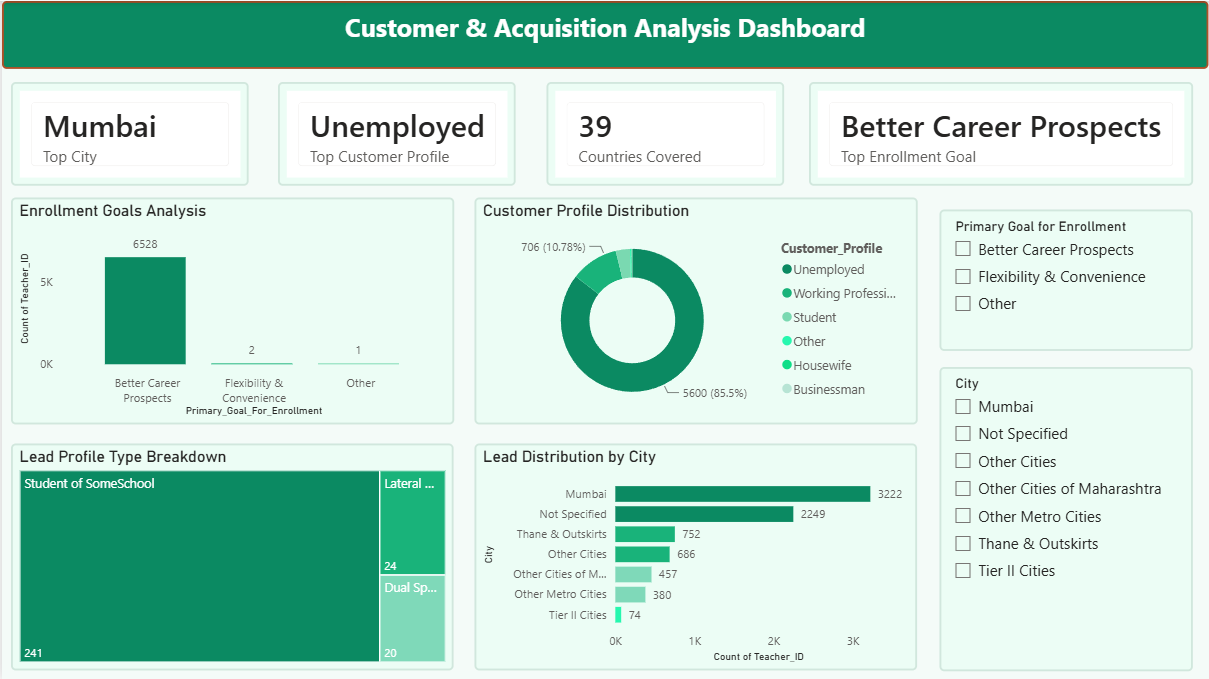

The dashboard page shown, as its layout file describes it:
{"tool":"powerbi","page":{"name":"Customer & Acquisition Analysis","canvas":[1280,720],"ordinal":3},"visuals":[{"type":"donutChart","title":"Customer Profile Distribution","fields":{"Category":["clean_b2b_edtech_leads.Customer_Profile"],"Y":["CountNonNull(clean_b2b_edtech_leads.Teacher_ID)"]},"box":[501.1,208.8,470,240.5],"z":0},{"type":"clusteredColumnChart","title":"Enrollment Goals Analysis","fields":{"Category":["clean_b2b_edtech_leads.Primary_Goal_For_Enrollment"],"Y":["CountNonNull(clean_b2b_edtech_leads.Teacher_ID)"]},"box":[10,208.8,470,240.5],"z":1000},{"type":"clusteredBarChart","title":"Lead Distribution by City","fields":{"Category":["clean_b2b_edtech_leads.City"],"Y":["CountNonNull(clean_b2b_edtech_leads.Teacher_ID)"]},"box":[501.1,469.4,469.4,240.5],"z":2000},{"type":"slicer","fields":{"Values":["clean_b2b_edtech_leads.City"]},"box":[993.8,387.5,268.9,322.4],"z":3000},{"type":"slicer","fields":{"Values":["clean_b2b_edtech_leads.Primary_Goal_For_Enrollment"]},"box":[993.8,220.5,268.9,150.3],"z":4000},{"type":"treemap","title":"Lead Profile Type Breakdown","fields":{"Group":["clean_b2b_edtech_leads.Lead_Profile_Type"],"Values":["CountNonNull(clean_b2b_edtech_leads.Teacher_ID)"]},"box":[10,469.4,469.4,240.5],"z":5000},{"type":"cardVisual","fields":{"Data":["clean_b2b_edtech_leads.Top City"]},"box":[10,85.2,252.2,110.2],"z":6000},{"type":"cardVisual","fields":{"Data":["clean_b2b_edtech_leads.Top Customer Profile"]},"box":[292.3,85.2,252.2,110.2],"z":7000},{"type":"cardVisual","fields":{"Data":["clean_b2b_edtech_leads.Top Enrollment Goal"]},"box":[855.2,85.2,407.6,110.2],"z":8000},{"type":"cardVisual","fields":{"Data":["clean_b2b_edtech_leads.Countries Covered"]},"box":[577.9,85.2,252.2,110.2],"z":9000},{"type":"textbox","box":[0,0,1279.5,71.8],"z":9001}]}

Visuals, with their boxes in screenshot pixels (x1, y1, x2, y2), scaled from the page's 1280x720 canvas onto the 1209x679 screenshot:
"Customer Profile Distribution" donutChart: (473, 197, 917, 424)
"Enrollment Goals Analysis" clusteredColumnChart: (9, 197, 453, 424)
"Lead Distribution by City" clusteredBarChart: (473, 443, 917, 669)
slicer - clean_b2b_edtech_leads.City: (939, 365, 1193, 669)
slicer - clean_b2b_edtech_leads.Primary_Goal_For_Enrollment: (939, 208, 1193, 350)
"Lead Profile Type Breakdown" treemap: (9, 443, 453, 669)
cardVisual - clean_b2b_edtech_leads.Top City: (9, 80, 248, 184)
cardVisual - clean_b2b_edtech_leads.Top Customer Profile: (276, 80, 514, 184)
cardVisual - clean_b2b_edtech_leads.Top Enrollment Goal: (808, 80, 1193, 184)
cardVisual - clean_b2b_edtech_leads.Countries Covered: (546, 80, 784, 184)
textbox: (0, 0, 1208, 68)
